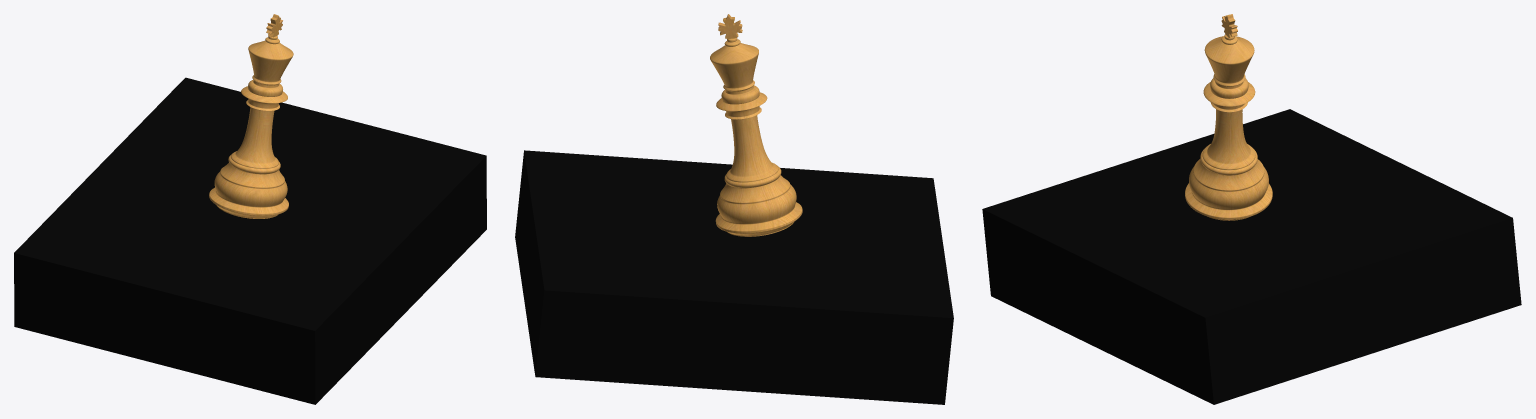
The model's file is white.glb.
3 renders of one model, left to right at view 1: azimuth 30°, elevation 25°; view 2: azimuth 150°, elevation 25°; view 3: azimuth 270°, elevation 25°, orthographic. The views are drawn at different scales.
Visible parts, largest first — view 1: Base, King; view 2: Base, King; view 3: Base, King.
Part boxes in pixels (x1,y1,x2,y2): Base: (14, 77, 486, 404); King: (209, 14, 293, 219); Base: (515, 150, 953, 404); King: (710, 14, 802, 237); Base: (982, 109, 1521, 404); King: (1185, 14, 1272, 221).
Bounding box in the file's own units: 28.3 × 18.07 × 27.69.
2 materials, 1 textured.
